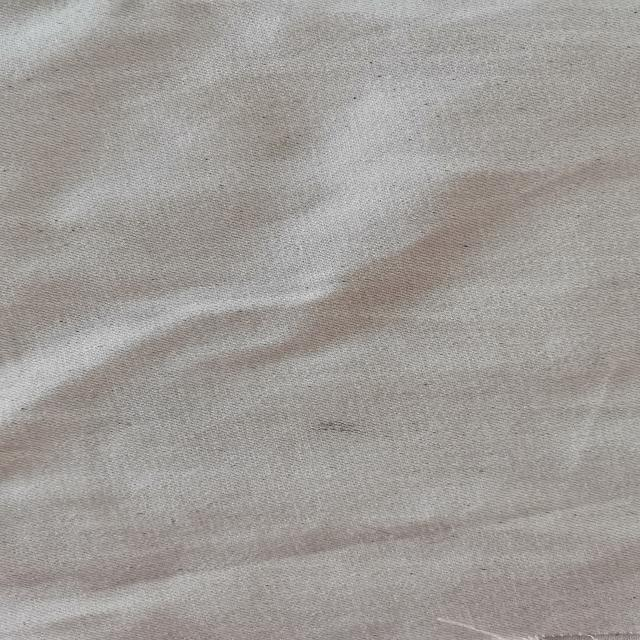taaaches: (294, 412, 400, 450)
